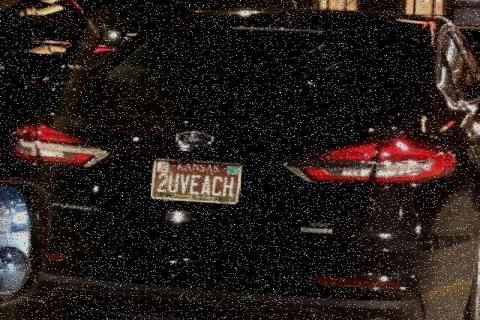LicensePlate: (147, 157, 241, 203)
